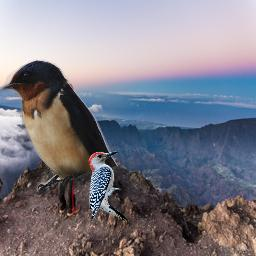Swallow: (0, 59, 119, 195)
Woodpecker: (85, 148, 133, 228)
